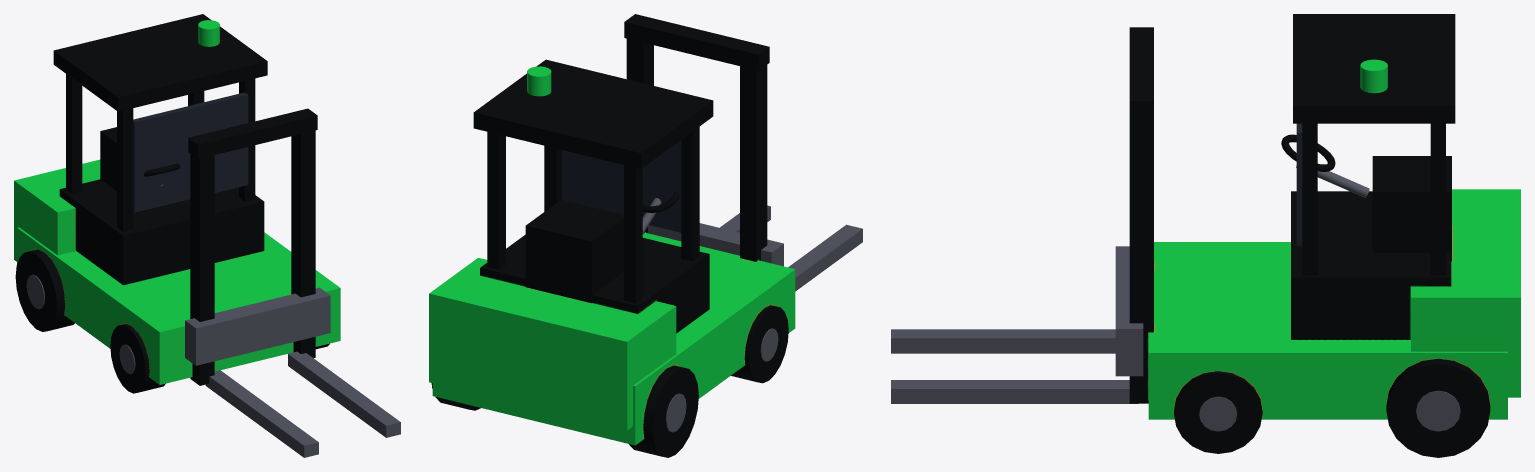
Rendered from forklift.glb.
3 views of the same model, side by side, from view 1: azimuth 30°, elevation 25°; view 2: azimuth 150°, elevation 25°; view 3: azimuth 270°, elevation 25° (orthographic). The views are drawn at different scales.
Parts seen in each view (by area): view 1: node_id5, node_id26, node_id11, node_id29, node_id50, node_id41, node_id44, node_id8, node_id47, node_id56, node_id59, node_id53 (+7 smaller); view 2: node_id8, node_id26, node_id5, node_id32, node_id11, node_id29, node_id41, node_id47, node_id59, node_id17, node_id14, node_id20 (+8 smaller); view 3: node_id5, node_id26, node_id11, node_id8, node_id65, node_id32, node_id44, node_id56, node_id53, node_id77, node_id50, node_id23 (+6 smaller).
Part boxes in pixels (bbox=[...]): node_id5: bbox=[17, 227, 340, 384]; node_id26: bbox=[53, 14, 267, 111]; node_id11: bbox=[59, 179, 264, 285]; node_id29: bbox=[132, 92, 248, 212]; node_id50: bbox=[185, 287, 330, 365]; node_id41: bbox=[190, 143, 214, 385]; node_id44: bbox=[291, 118, 315, 358]; node_id8: bbox=[14, 159, 100, 261]; node_id47: bbox=[188, 108, 317, 158]; node_id56: bbox=[288, 351, 400, 437]; node_id59: bbox=[15, 249, 74, 331]; node_id53: bbox=[205, 370, 318, 457]; node_id8: bbox=[429, 257, 676, 430]; node_id26: bbox=[473, 59, 713, 168]; node_id5: bbox=[432, 232, 795, 445]; node_id32: bbox=[525, 199, 623, 303]; node_id11: bbox=[480, 234, 709, 333]; node_id29: bbox=[562, 140, 681, 232]; node_id41: bbox=[740, 52, 767, 261]; node_id47: bbox=[624, 14, 769, 70]; node_id59: bbox=[629, 365, 698, 457]; node_id17: bbox=[487, 132, 505, 269]; node_id14: bbox=[624, 165, 642, 303]; node_id20: bbox=[681, 126, 699, 261]; node_id5: bbox=[1148, 242, 1507, 419]; node_id26: bbox=[1293, 14, 1455, 123]; node_id11: bbox=[1291, 191, 1451, 339]; node_id8: bbox=[1411, 189, 1520, 397]; node_id65: bbox=[1386, 358, 1490, 457]; node_id32: bbox=[1372, 156, 1451, 261]; node_id44: bbox=[1129, 119, 1153, 403]; node_id56: bbox=[891, 380, 1138, 403]; node_id53: bbox=[891, 329, 1115, 353]; node_id77: bbox=[1174, 371, 1262, 453]; node_id50: bbox=[1115, 246, 1143, 376]; node_id23: bbox=[1302, 123, 1317, 274].
Bounding box in the file's own units: 0.3717 × 0.512 × 0.8082.
Materials: 27 (27 with a texture image).
